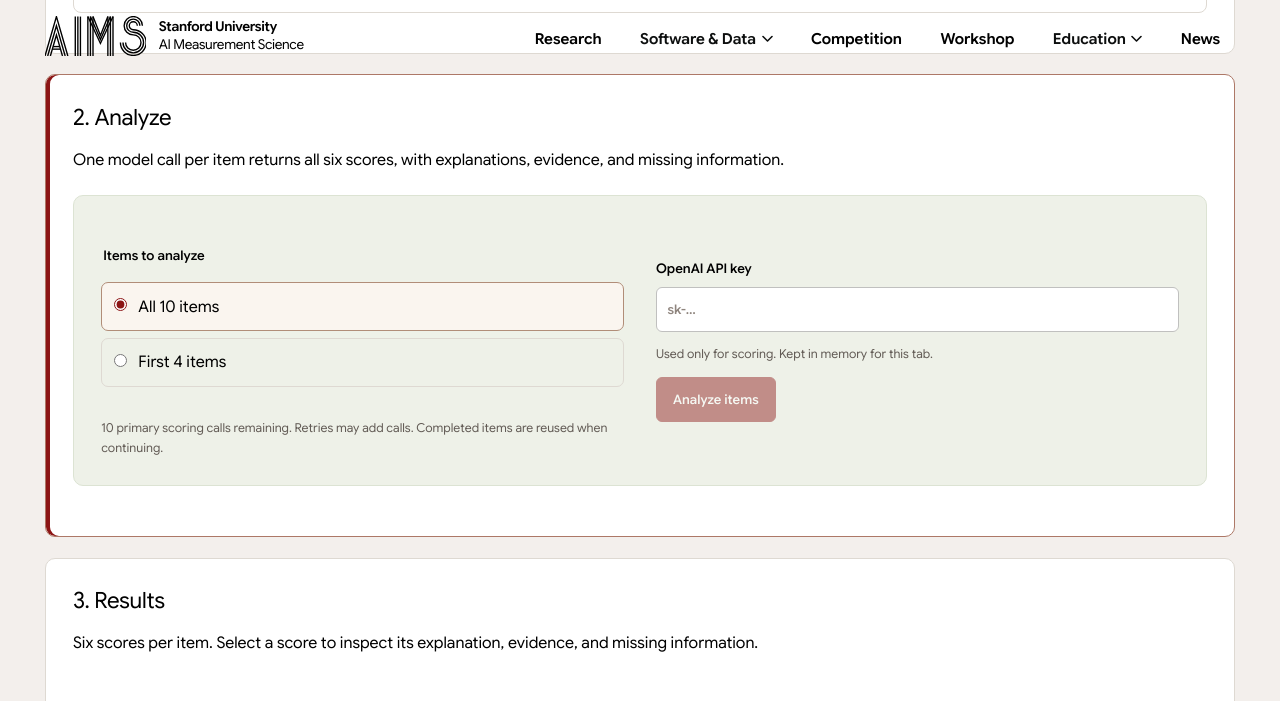
Test case: can choose a pilot and continue through all items without a review acknowledgment
This screenshot has width=1280, height=701.
(page scrolled)
Click the radio button labelled "First 4 items" at (121, 361), box [114,354,127,367]
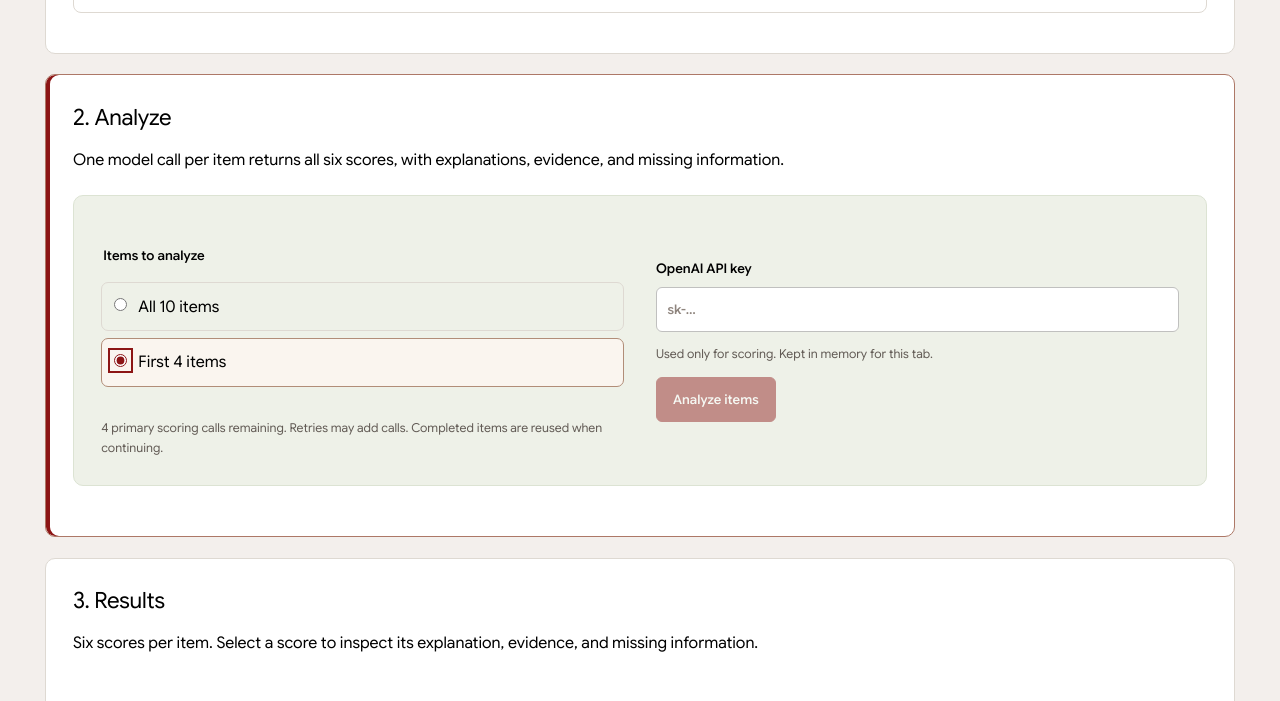
Now the text "4 primary scoring calls remaining" is shown, box [101,418,624,458]
Type "sk-pilot" into the password field labelled "OpenAI API key" at (917, 310), box [656,287,1179,332]
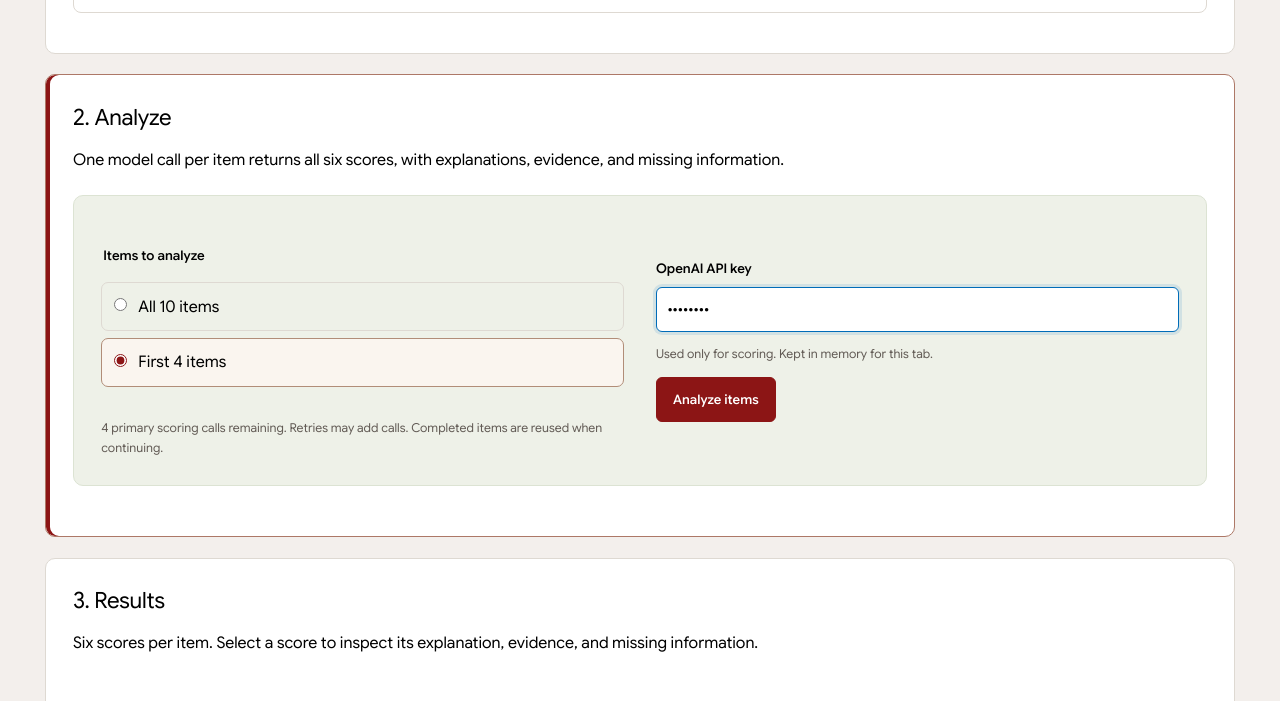
Click the button "Analyze items" at (716, 399), box [656,377,776,422]
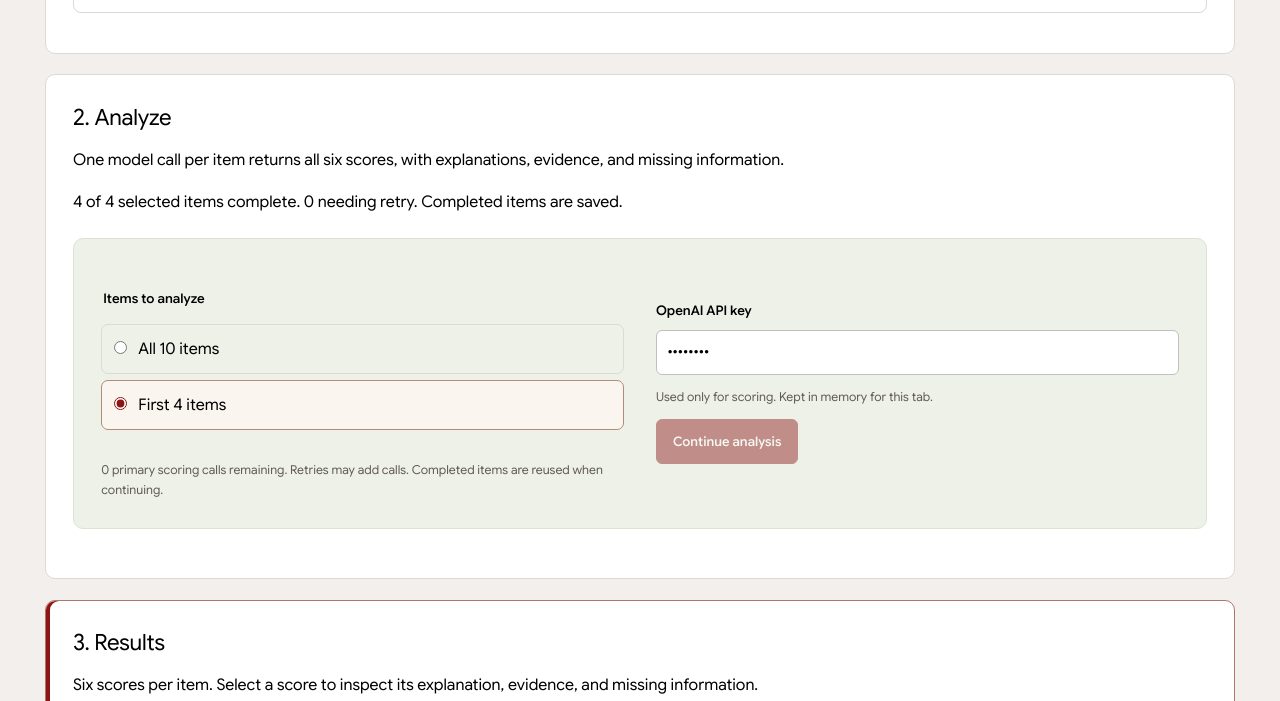
Click the radio button labelled "All 10 items" at (121, 347), box [114,341,127,354]
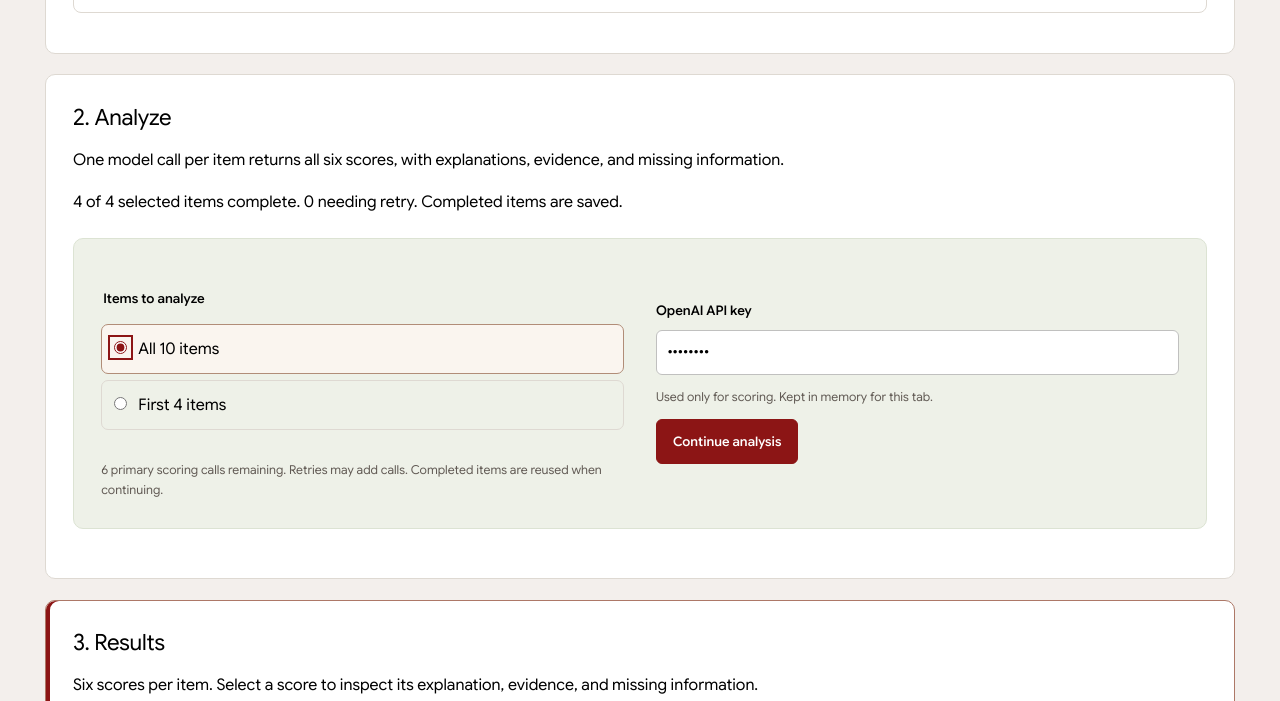
Now the text "6 primary scoring calls remaining" is shown, box [101,460,624,501]
Now the button "Continue analysis" is enabled, box [656,420,798,464]
